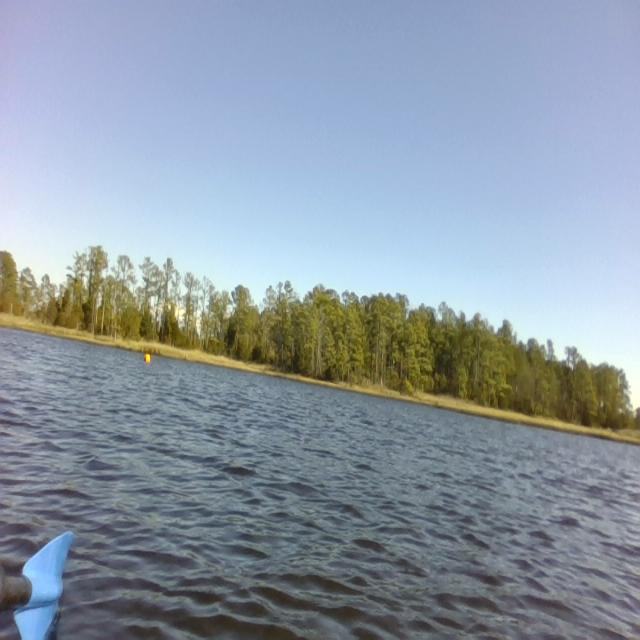Buoy: (141, 349, 154, 374)
